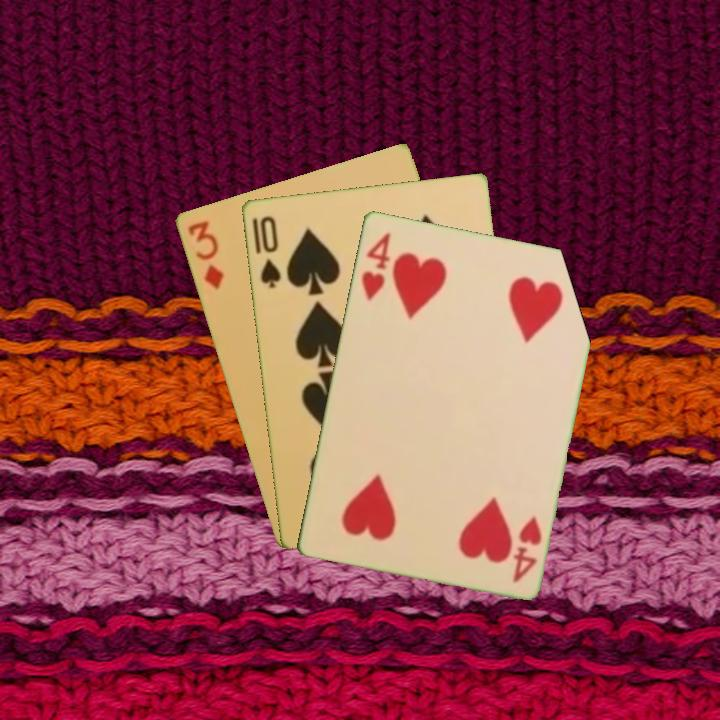10s: (256, 212, 284, 291)
3d: (183, 217, 227, 292)
4h: (357, 228, 393, 304), (508, 512, 545, 585)
